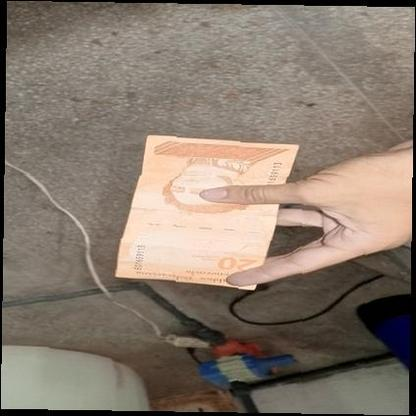twenty-front-vef: (114, 134, 298, 290)
